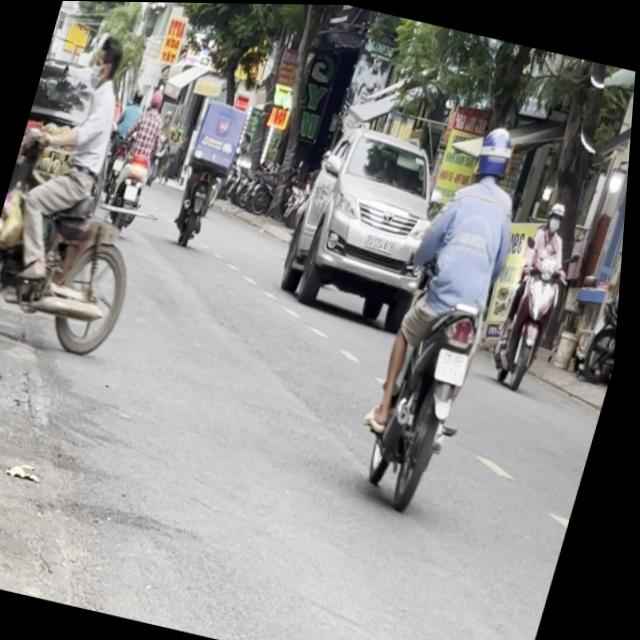helmet: (473, 120, 522, 183), (546, 198, 570, 231)
licenseplate: (348, 108, 551, 512), (0, 16, 200, 365), (490, 191, 590, 390)
motorcyclist: (89, 32, 129, 86)
nohelmet: (436, 345, 476, 383)
